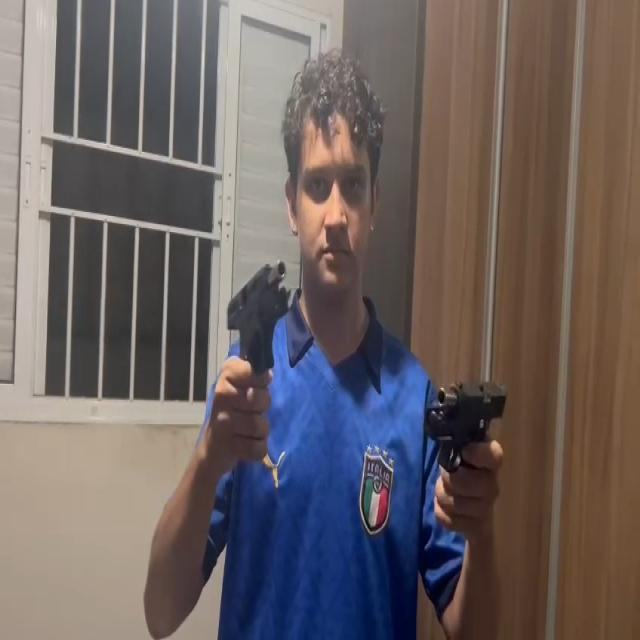gun: (424, 376, 512, 472), (226, 254, 288, 368)
